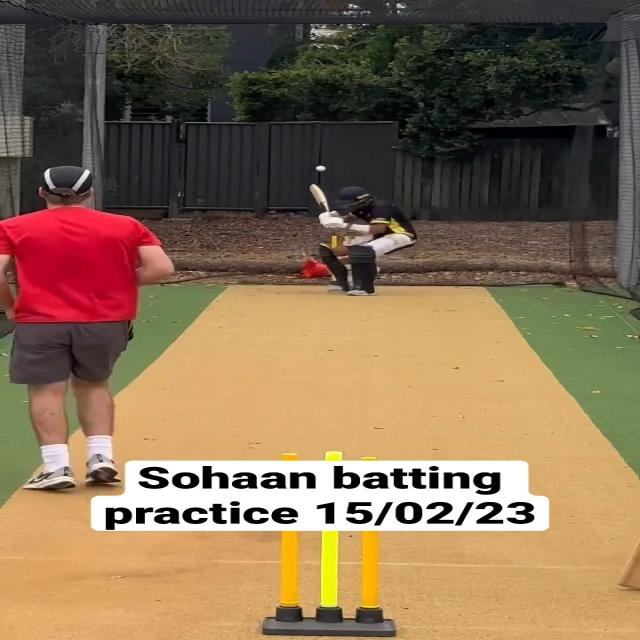ball: (315, 165, 326, 172)
stump: (262, 529, 394, 637)
